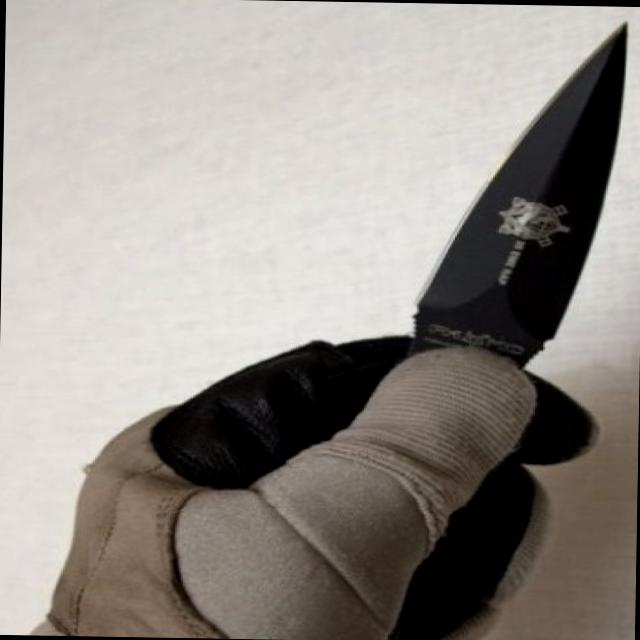knife: (386, 14, 637, 422)
